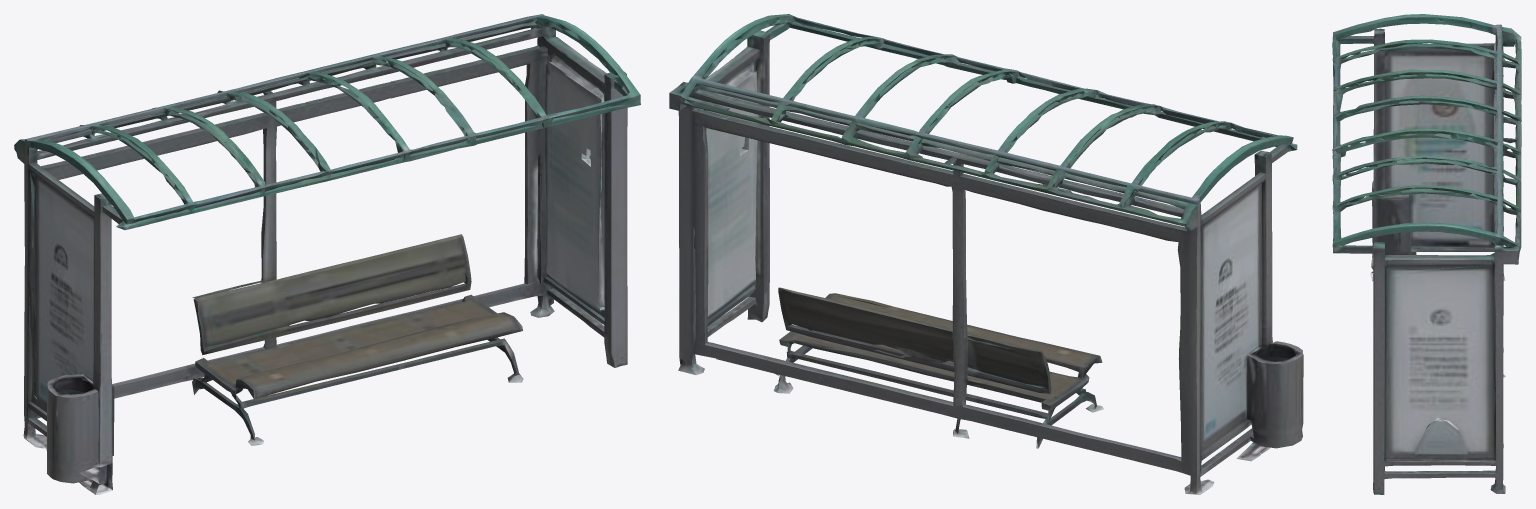
The model's file is ponto_aeroporto.glb.
3 views of the same model, side by side, from view 1: azimuth 30°, elevation 25°; view 2: azimuth 150°, elevation 25°; view 3: azimuth 270°, elevation 25° (orthographic). The views are drawn at different scales.
Parts seen in each view (by area): view 1: raiz; view 2: raiz; view 3: raiz.
Boxes of the visible parts, x1=… form: raiz: x1=14, y1=14, x2=640, y2=494; raiz: x1=669, y1=14, x2=1303, y2=494; raiz: x1=1332, y1=14, x2=1521, y2=494.
Bounding box in the file's own units: 4.77 × 2.52 × 1.63.
1 material, 1 textured.
